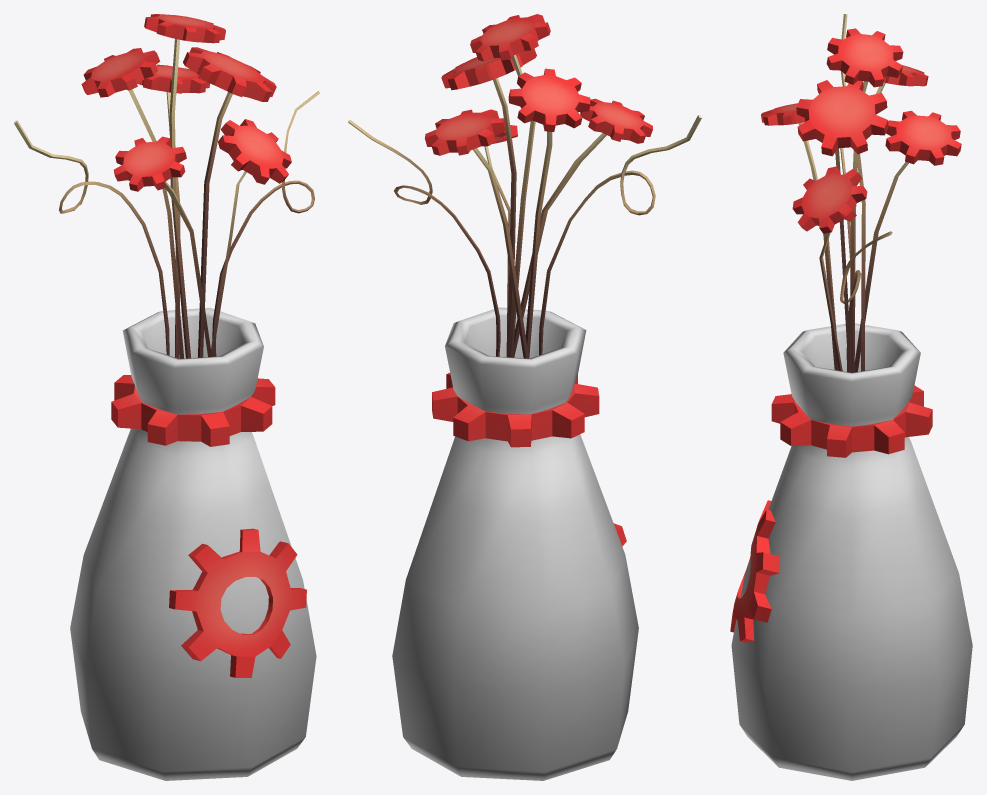
The model's file is M_Prop_Vase_001.fbx.
3 renders of one model, left to right at view 1: azimuth 30°, elevation 25°; view 2: azimuth 150°, elevation 25°; view 3: azimuth 270°, elevation 25°, orthographic. The views are drawn at different scales.
Parts seen in each view (by area): view 1: Plant3; view 2: Plant3; view 3: Plant3.
Part boxes in pixels (box(x1,y1,x2,y2)): Plant3: box(14, 14, 319, 780); Plant3: box(348, 14, 701, 780); Plant3: box(730, 14, 972, 780).
Bounding box in the file's own units: 61.18 × 128 × 40.5.
